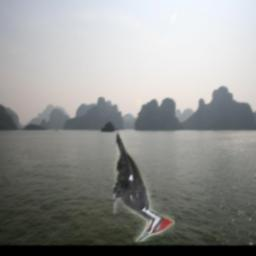Woodpecker: (112, 130, 174, 242)
